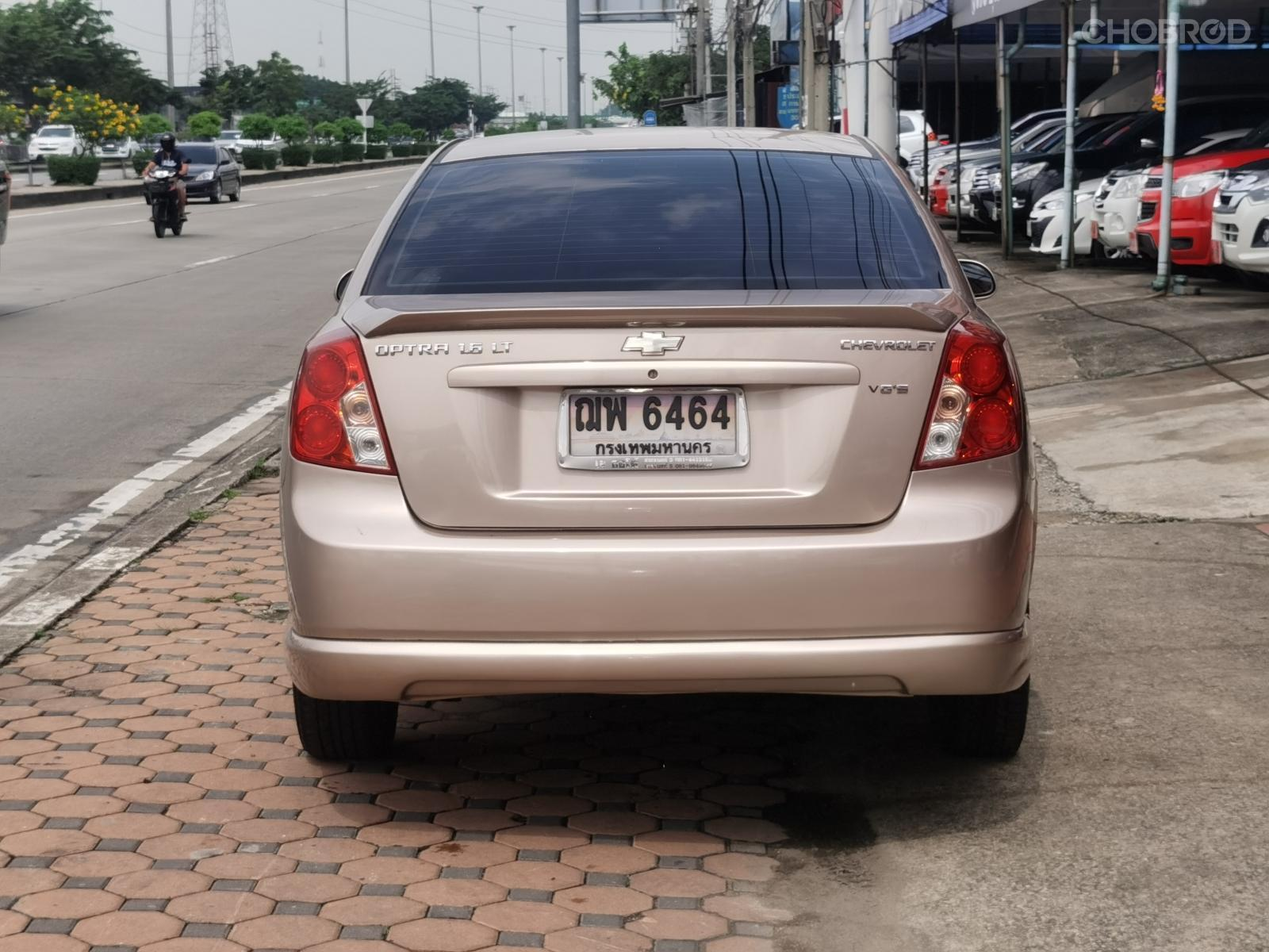license-plate: (546, 381, 755, 480)
